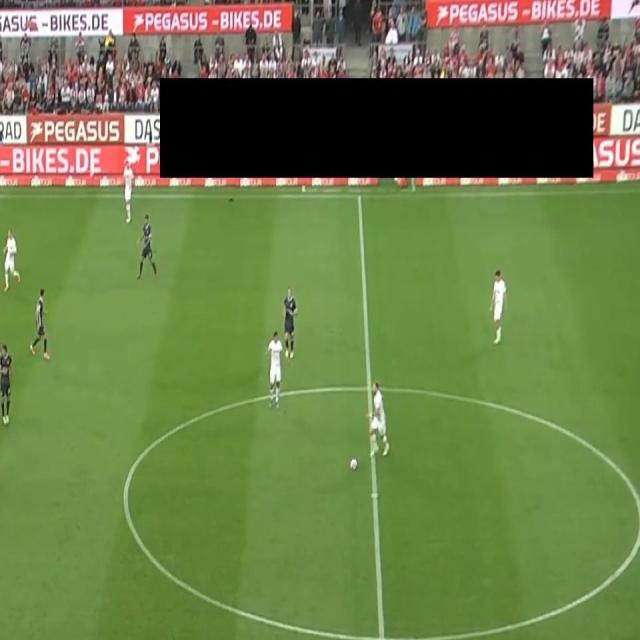ball: (349, 456, 358, 473)
